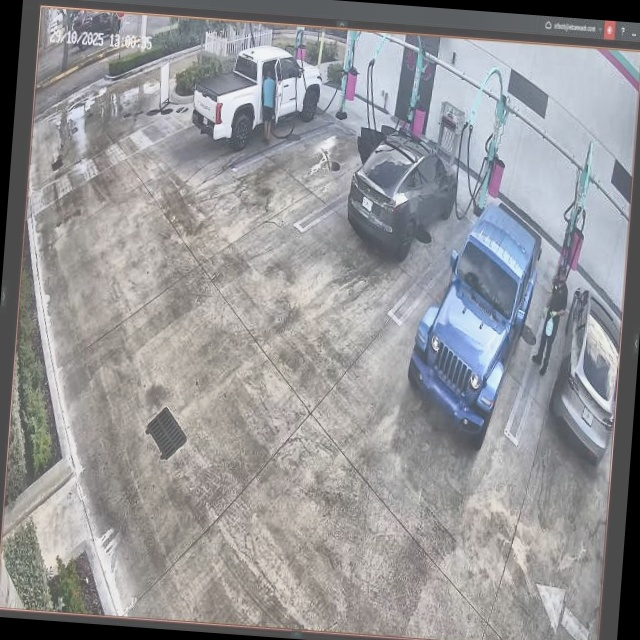Car: (406, 194, 541, 442), (349, 123, 459, 255)
